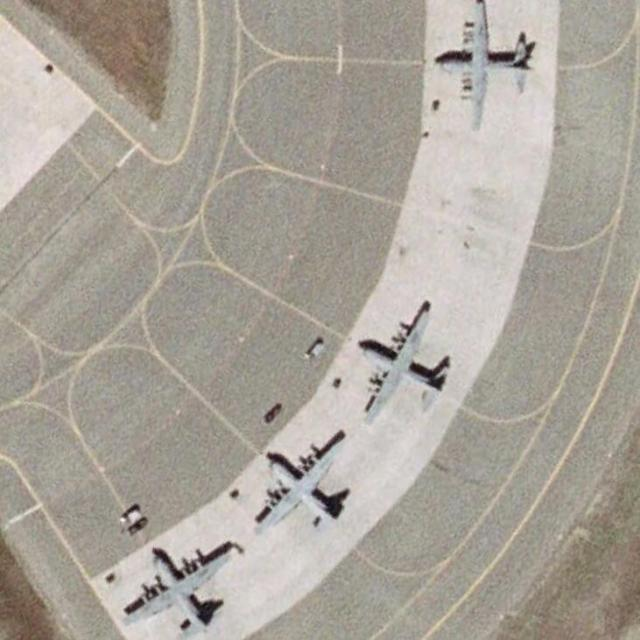fighter jet: (424, 3, 534, 117), (354, 298, 450, 414), (114, 543, 231, 628), (260, 440, 350, 542)
